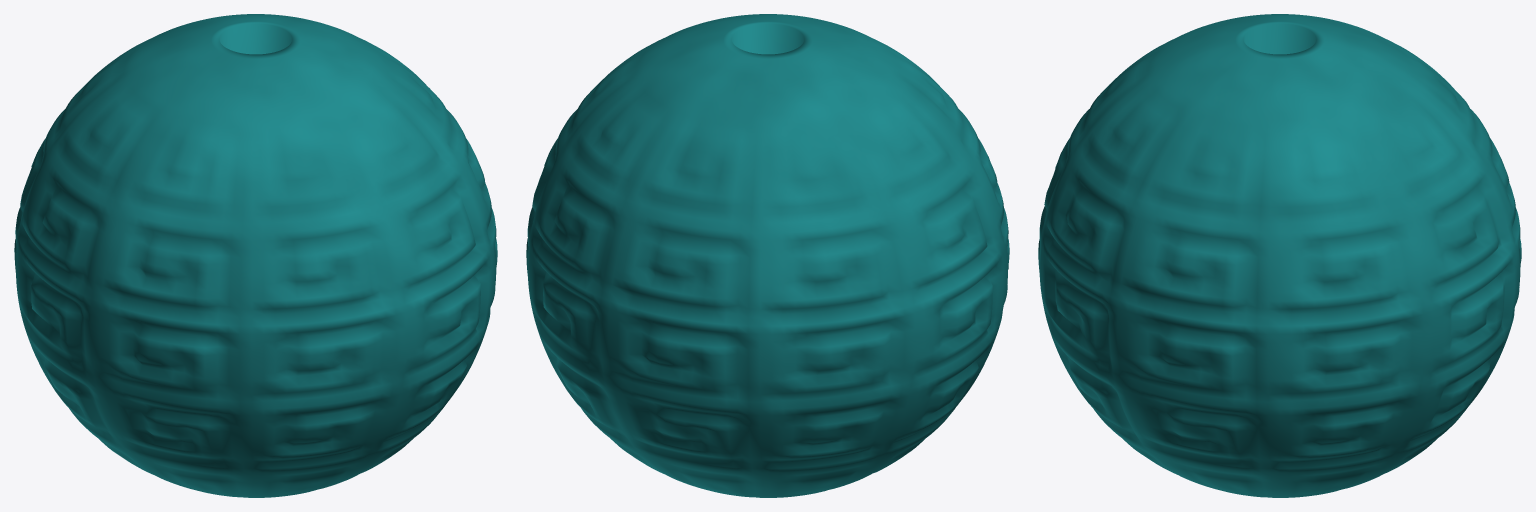
The model's file is meander-round.glb.
The picture shows the model from 3 angles, left to right: view 1: azimuth 30°, elevation 25°; view 2: azimuth 150°, elevation 25°; view 3: azimuth 270°, elevation 25°; orthographic projection.
Visible parts, largest first — view 1: meander-round; view 2: meander-round; view 3: meander-round.
Part boxes in pixels (x1,y1,x2,y2): meander-round: [14, 14, 497, 497]; meander-round: [526, 14, 1009, 497]; meander-round: [1038, 14, 1521, 497].
Bounding box in the file's own units: 0.008 × 0.00791 × 0.00799.
